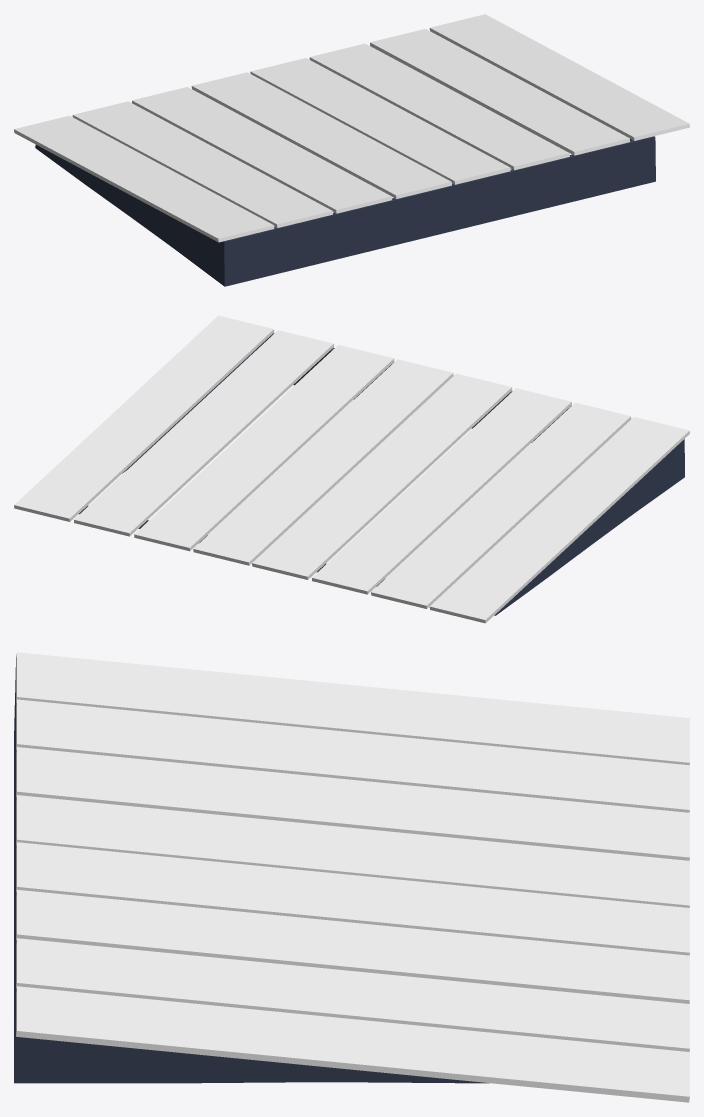
Rendered from BackRoof.fbx.
3 views of the same model, one above another, from view 1: azimuth 30°, elevation 25°; view 2: azimuth 150°, elevation 25°; view 3: azimuth 270°, elevation 25° (orthographic). The views are drawn at different scales.
Visible parts, largest first — view 1: BackRoof; view 2: BackRoof; view 3: BackRoof.
Part boxes in pixels (<box>): BackRoof: <box>14,14,689,286</box>; BackRoof: <box>14,315,689,623</box>; BackRoof: <box>14,652,689,1102</box>.
Size of the model in its own units: 5.77 by 0.5699 by 4.36.
